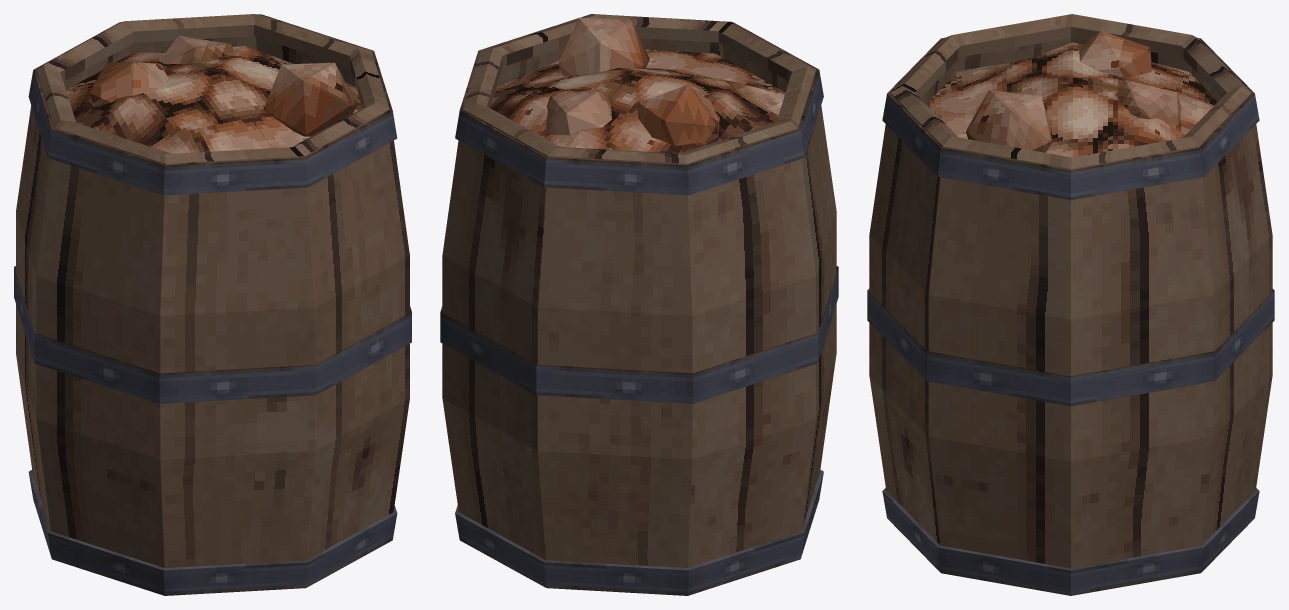
Rendered from barrel_onion.glb.
3 renders of one model, left to right at view 1: azimuth 30°, elevation 25°; view 2: azimuth 150°, elevation 25°; view 3: azimuth 270°, elevation 25°, orthographic.
Visible parts, largest first — view 1: barrel_onion; view 2: barrel_onion; view 3: barrel_onion.
Boxes of the visible parts, x1,y1,x2,y2 form: barrel_onion: (14,14,411,595); barrel_onion: (440,14,838,595); barrel_onion: (867,14,1274,595).
Size of the model in its own units: 0.9799 by 1.21 by 0.9799.
Materials: 3 (3 with a texture image).
